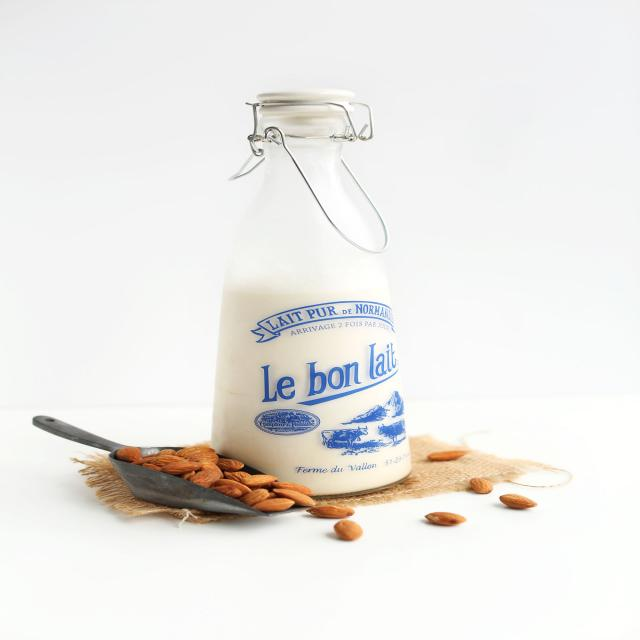Milk carton/jug: (204, 271, 416, 500)
